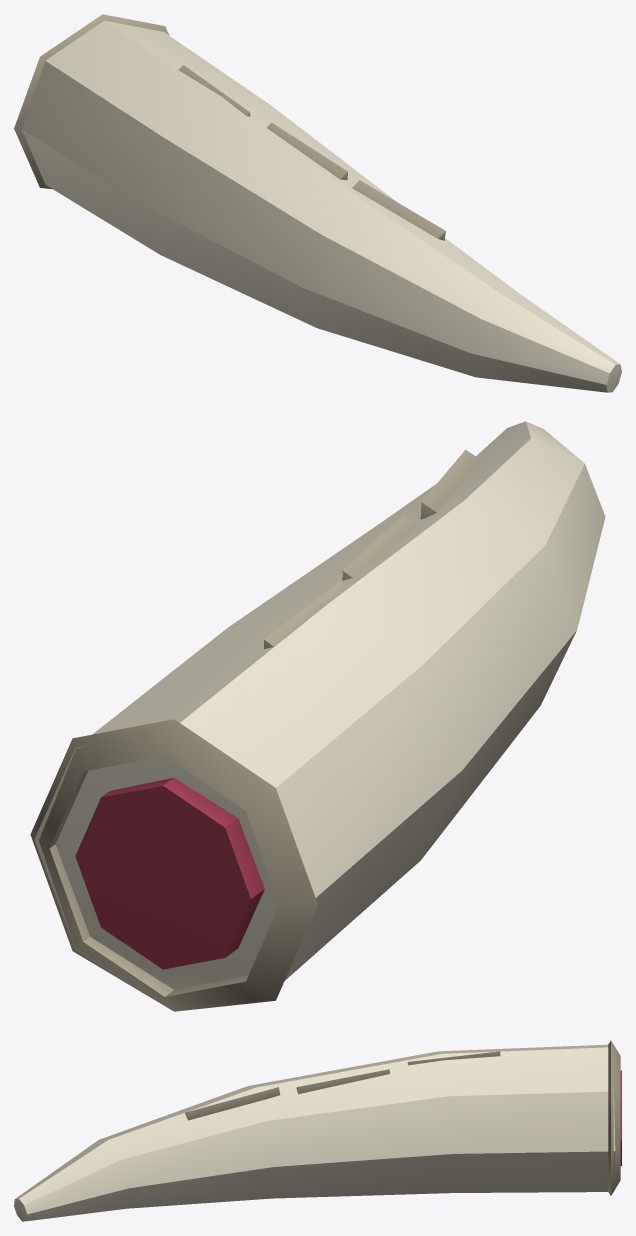
The model's file is curio_gatorTooth.glb.
3 views of the same model, one above another, from view 1: azimuth 30°, elevation 25°; view 2: azimuth 150°, elevation 25°; view 3: azimuth 270°, elevation 25° (orthographic). The views are drawn at different scales.
Parts seen in each view (by area): view 1: curio_gatorTooth; view 2: curio_gatorTooth; view 3: curio_gatorTooth.
Part boxes in pixels (x1=…): curio_gatorTooth: x1=14, y1=14, x2=621, y2=392; curio_gatorTooth: x1=30, y1=421, x2=605, y2=1011; curio_gatorTooth: x1=14, y1=1040, x2=621, y2=1221.
Size of the model in its own units: 0.0252 by 0.0175 by 0.0659.
